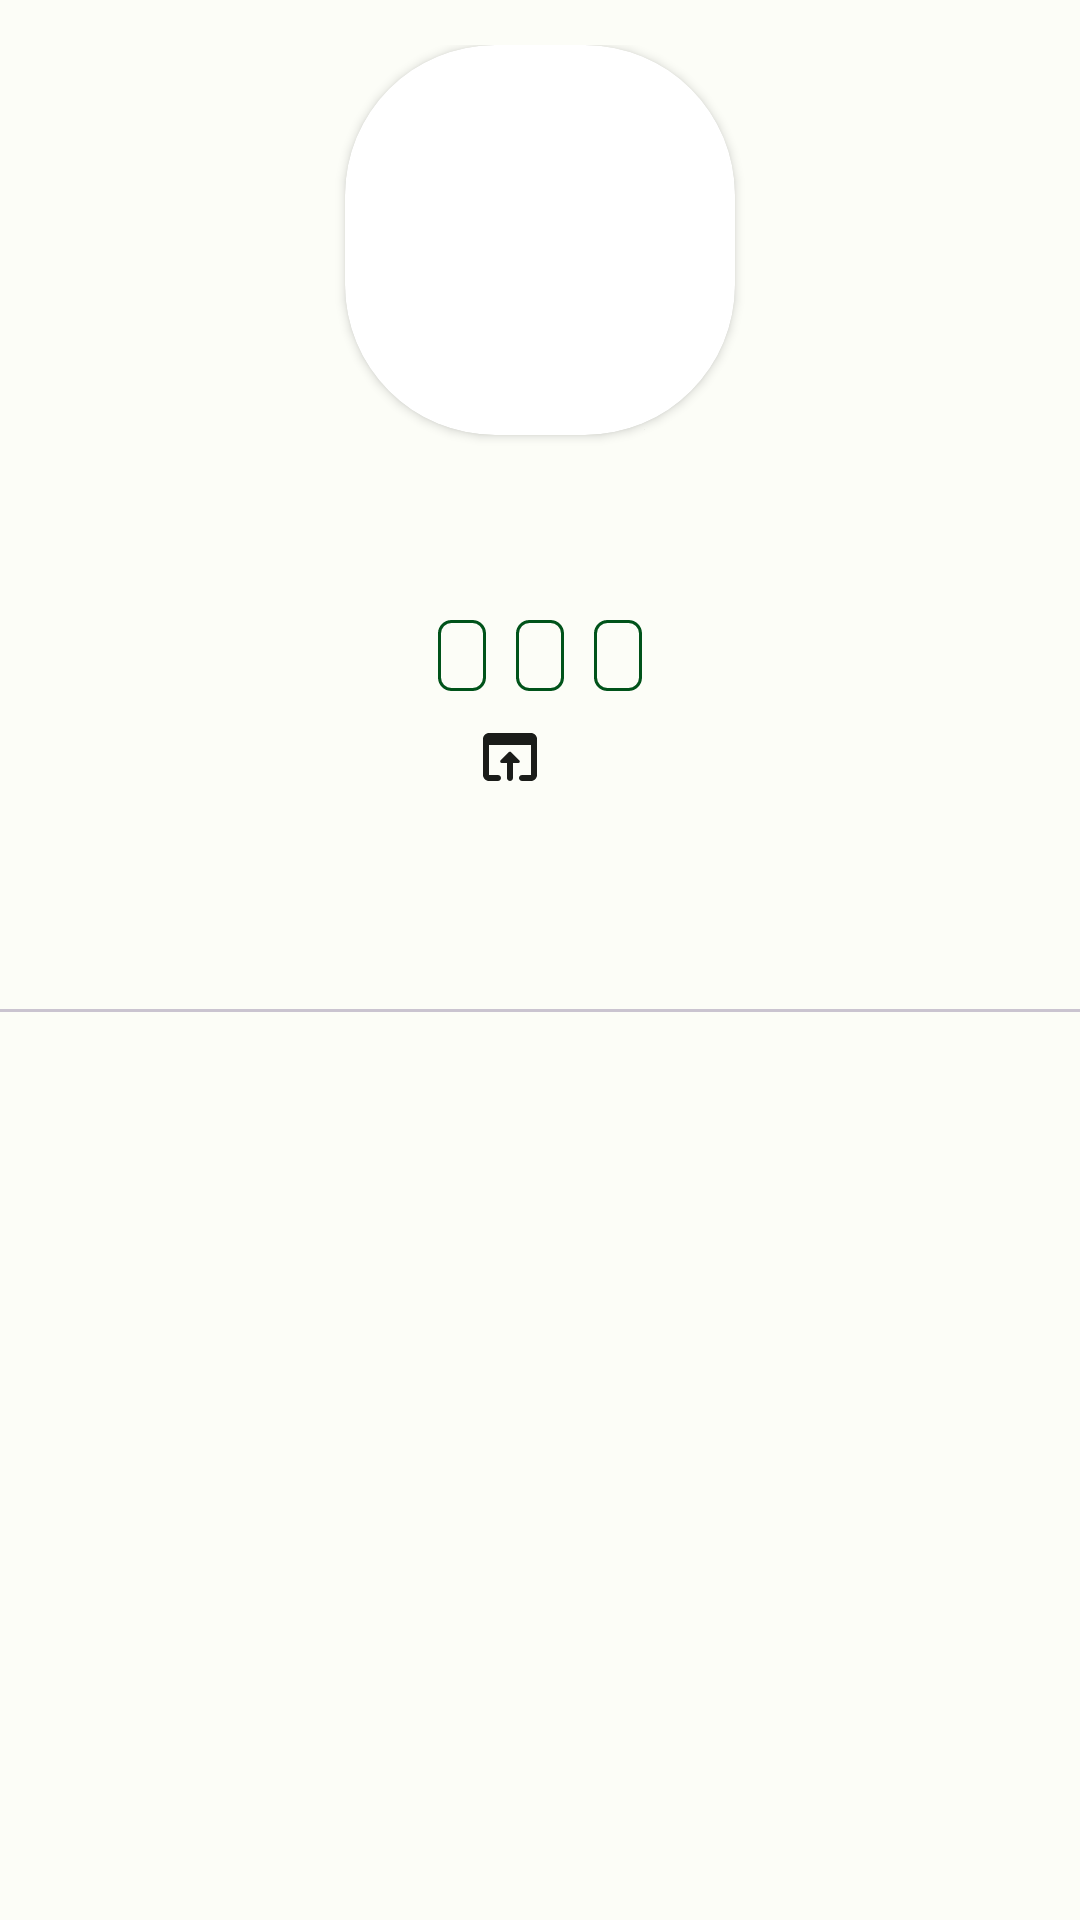

Locate icon controls on the screen. Image size 1080w x 1920h, boxes as (x1, y1, x2, y2).
Icon Browser: (483, 733, 537, 781)
